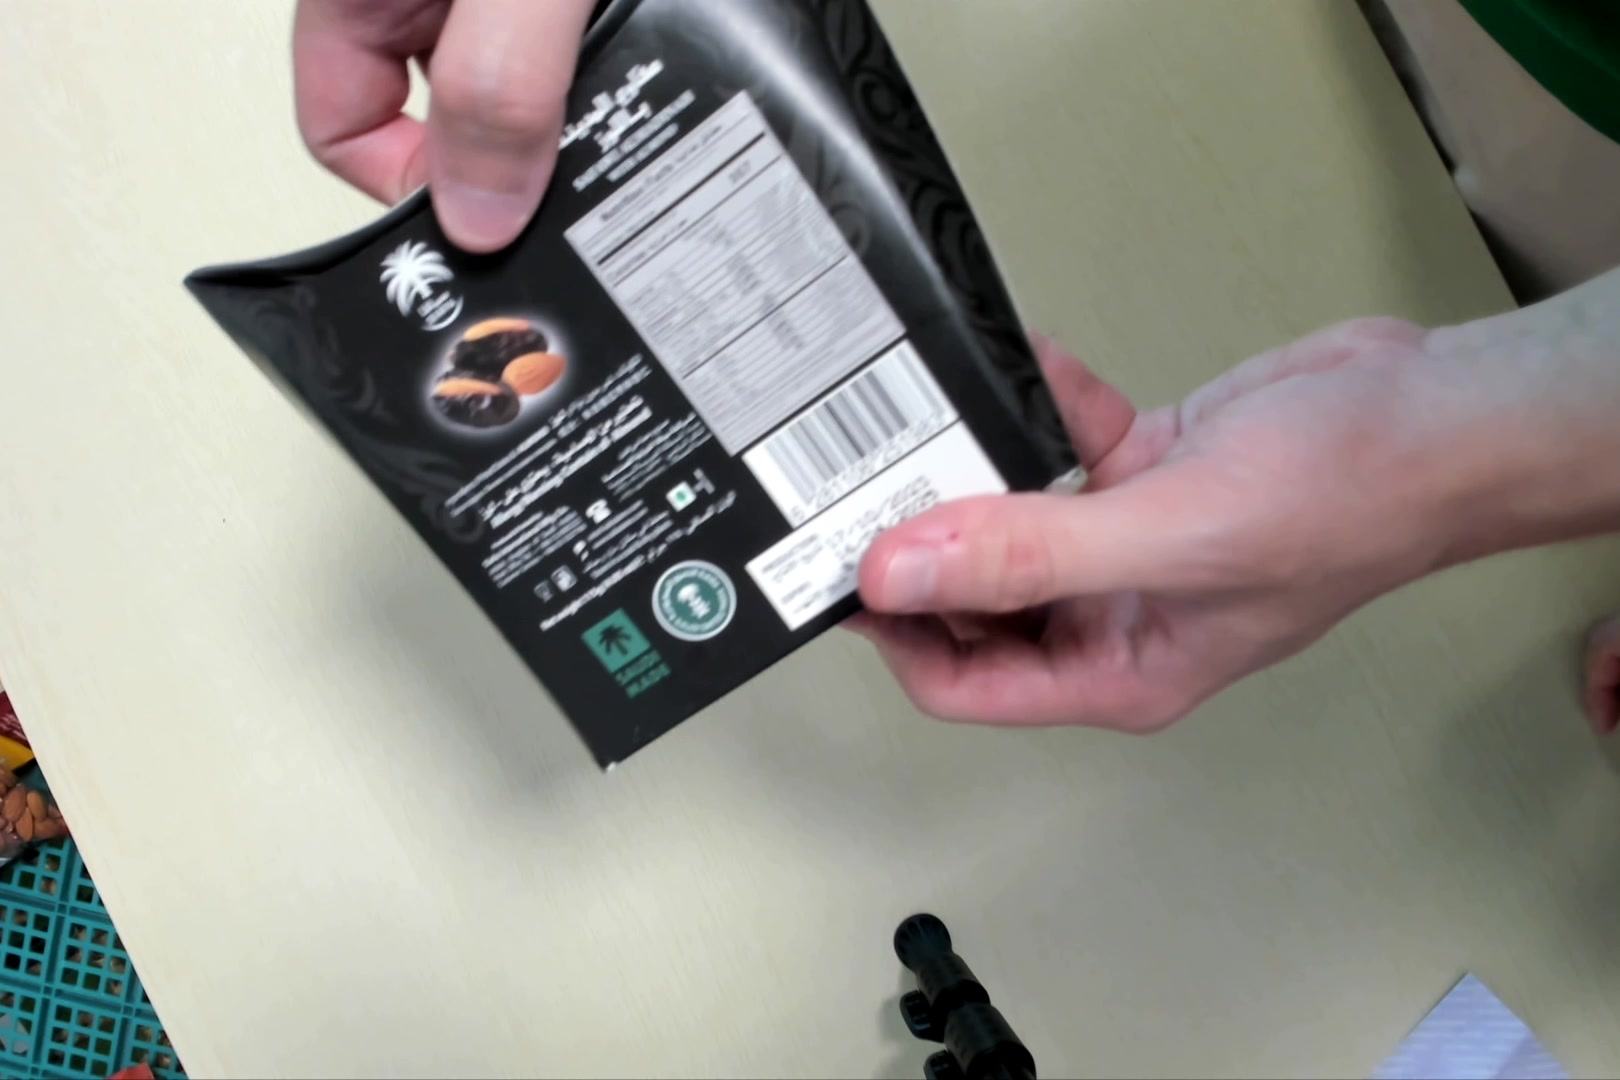DriedFood_100-199g_NonHalal_NonHealthy: (180, 2, 1088, 779)
